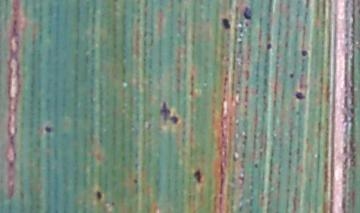tarspot: (159, 100, 170, 124), (220, 16, 231, 31), (242, 5, 252, 20), (193, 167, 202, 183), (169, 112, 178, 127), (189, 74, 195, 96), (299, 47, 309, 59), (294, 91, 306, 101), (43, 123, 53, 135), (95, 189, 104, 202), (241, 133, 248, 146), (252, 161, 260, 172), (243, 69, 250, 81), (131, 177, 140, 185), (303, 1, 310, 10), (265, 42, 272, 51), (237, 174, 244, 183), (142, 1, 149, 9), (109, 200, 116, 207), (243, 21, 250, 28), (288, 72, 295, 78)
